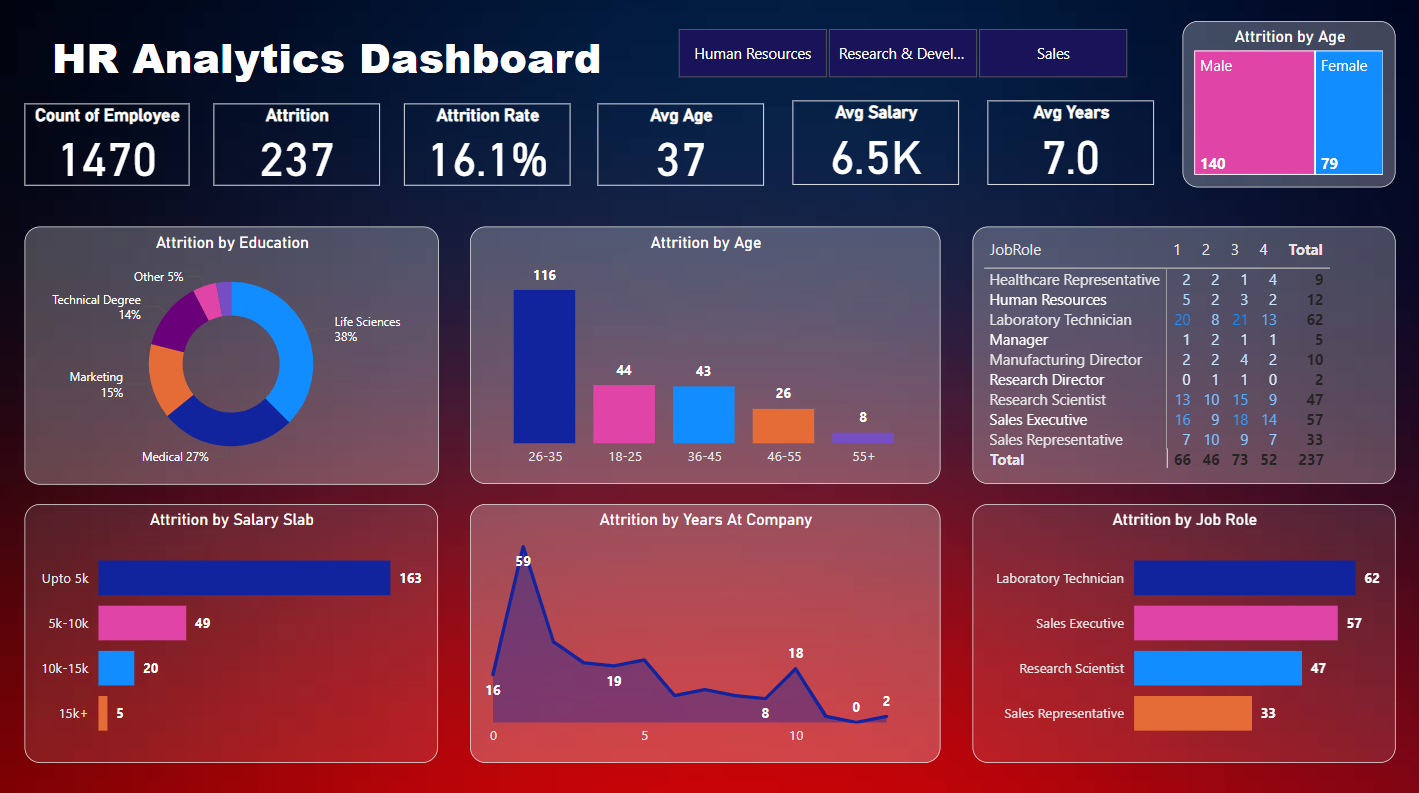

The page's visual inventory and layout, read from the dashboard file:
{"tool":"powerbi","page":{"name":"Page 1","canvas":[1280,720],"ordinal":0},"visuals":[{"type":"card","title":"Count of Employee","fields":{"Values":["CountNonNull(data_analytics_project_HR_Analytics_dashboard.EmpID)"]},"box":[22.7,95.4,148.4,74.2],"z":0},{"type":"card","title":"Attrition","fields":{"Values":["Sum(data_analytics_project_HR_Analytics_dashboard.AttritionCount)"]},"box":[193.8,95.4,149.9,74.2],"z":1000},{"type":"card","title":"Avg Age","fields":{"Values":["Avg(data_analytics_project_HR_Analytics_dashboard.Age)"]},"box":[539.1,95.4,149.9,74.2],"z":2000},{"type":"card","title":"Attrition Rate","fields":{"Values":["data_analytics_project_HR_Analytics_dashboard.AttritionRate"]},"box":[364.9,95.4,149.9,74.2],"z":3000},{"type":"card","title":"Avg Salary","fields":{"Values":["Avg(data_analytics_project_HR_Analytics_dashboard.MonthlyIncome)"]},"box":[714.7,93.9,149.9,75.7],"z":4000},{"type":"card","title":"Avg Years","fields":{"Values":["Avg(data_analytics_project_HR_Analytics_dashboard.YearsAtCompany)"]},"box":[890.4,93.9,149.9,75.7],"z":5000},{"type":"donutChart","title":"Attrition by Education","fields":{"Category":["data_analytics_project_HR_Analytics_dashboard.EducationField"],"Y":["Sum(data_analytics_project_HR_Analytics_dashboard.AttritionCount)"]},"box":[23,206.8,373.1,232.5],"z":6000},{"type":"columnChart","title":"Attrition by Age","fields":{"Category":["data_analytics_project_HR_Analytics_dashboard.AgeGroup"],"Y":["Sum(data_analytics_project_HR_Analytics_dashboard.AttritionCount)"]},"box":[424,207.4,424,231.7],"z":7000},{"type":"pivotTable","fields":{"Rows":["data_analytics_project_HR_Analytics_dashboard.JobRole"],"Columns":["data_analytics_project_HR_Analytics_dashboard.JobSatisfaction"],"Values":["Sum(data_analytics_project_HR_Analytics_dashboard.AttritionCount)"]},"box":[876.7,207.4,381.6,231.7],"z":8000},{"type":"barChart","title":"Attrition by Salary Slab","fields":{"Category":["data_analytics_project_HR_Analytics_dashboard.SalarySlab"],"Y":["Sum(data_analytics_project_HR_Analytics_dashboard.AttritionCount)"]},"box":[22.7,457.3,372.5,233.2],"z":9000},{"type":"barChart","title":"Attrition by Job Role","fields":{"Category":["data_analytics_project_HR_Analytics_dashboard.JobRole"],"Y":["Sum(data_analytics_project_HR_Analytics_dashboard.AttritionCount)"]},"box":[876.7,457.3,381.6,233.2],"z":10000},{"type":"areaChart","title":"Attrition by Years At Company","fields":{"Category":["data_analytics_project_HR_Analytics_dashboard.YearsAtCompany"],"Y":["Sum(data_analytics_project_HR_Analytics_dashboard.AttritionCount)"]},"box":[424,457.3,424,233.2],"z":11000},{"type":"treemap","title":"Attrition by Age","fields":{"Group":["data_analytics_project_HR_Analytics_dashboard.Gender"],"Values":["Sum(data_analytics_project_HR_Analytics_dashboard.AttritionCount)"]},"box":[1066,21.2,192.3,149.9],"z":12000},{"type":"slicer","fields":{"Values":["data_analytics_project_HR_Analytics_dashboard.Department"]},"box":[586,21.2,454.3,57.5],"z":13000},{"type":"textbox","box":[36.3,21.2,517.9,72.7],"z":14000}]}

Visuals, with their boxes in screenshot pixels (x1, y1, x2, y2), scaled from the page's 1280x720 canvas onto the 1419x793 screenshot:
"Count of Employee" card: crop(25, 105, 190, 187)
"Attrition" card: crop(215, 105, 381, 187)
"Avg Age" card: crop(598, 105, 764, 187)
"Attrition Rate" card: crop(405, 105, 571, 187)
"Avg Salary" card: crop(792, 103, 958, 187)
"Avg Years" card: crop(987, 103, 1153, 187)
"Attrition by Education" donutChart: crop(25, 228, 439, 484)
"Attrition by Age" columnChart: crop(470, 228, 940, 484)
pivotTable - data_analytics_project_HR_Analytics_dashboard.JobRole x data_analytics_project_HR_Analytics_dashboard.JobSatisfaction: crop(972, 228, 1395, 484)
"Attrition by Salary Slab" barChart: crop(25, 504, 438, 761)
"Attrition by Job Role" barChart: crop(972, 504, 1395, 761)
"Attrition by Years At Company" areaChart: crop(470, 504, 940, 761)
"Attrition by Age" treemap: crop(1182, 23, 1395, 188)
slicer - data_analytics_project_HR_Analytics_dashboard.Department: crop(650, 23, 1153, 87)
textbox: crop(40, 23, 614, 103)
